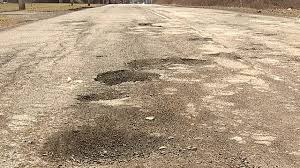pothole: (42, 123, 155, 168), (128, 55, 205, 71), (92, 68, 156, 86), (75, 90, 121, 104)
